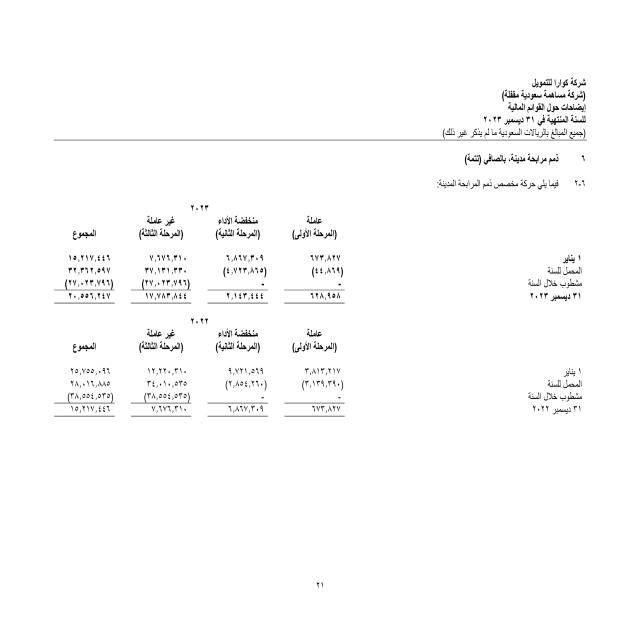notes: (504, 101, 594, 114)
table: (34, 192, 377, 430)
